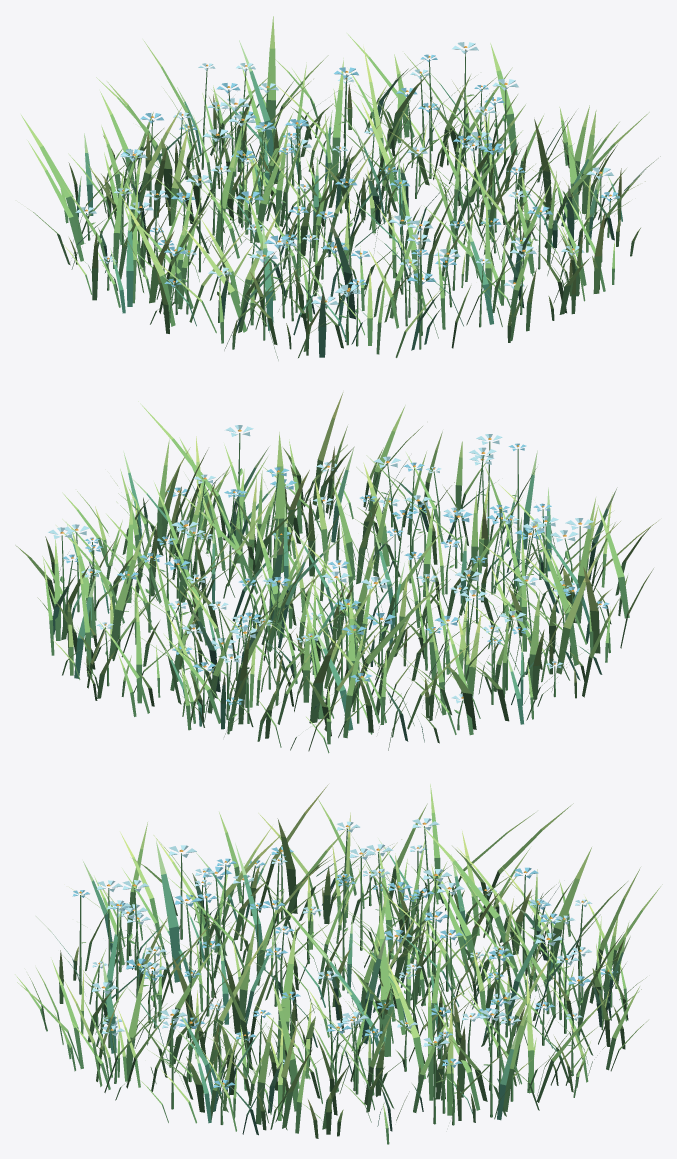
The model's file is Meadow_02_Blue.glb.
3 renders of one model, top to bottom at view 1: azimuth 30°, elevation 25°; view 2: azimuth 150°, elevation 25°; view 3: azimuth 270°, elevation 25°, orthographic. The views are drawn at different scales.
Visible parts, largest first — view 1: Meadow_02_Blue; view 2: Meadow_02_Blue; view 3: Meadow_02_Blue.
Part boxes in pixels (box(x1,y1,x2,y2)): Meadow_02_Blue: box(21, 16, 660, 360); Meadow_02_Blue: box(15, 392, 658, 753); Meadow_02_Blue: box(15, 784, 662, 1144).
Size of the model in its own units: 2.98 by 0.6146 by 2.86.
